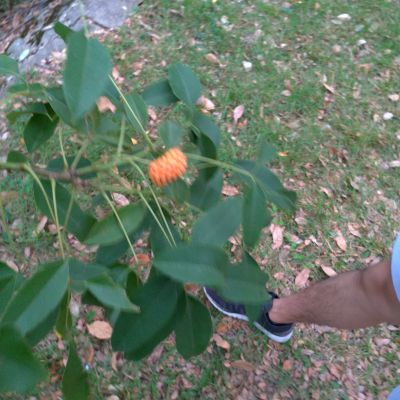eggs: (143, 143, 194, 190)
